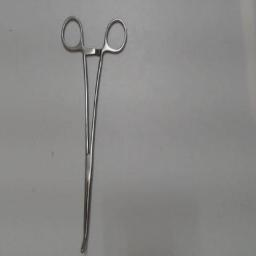Lahey Forceps: (56, 12, 130, 254)
